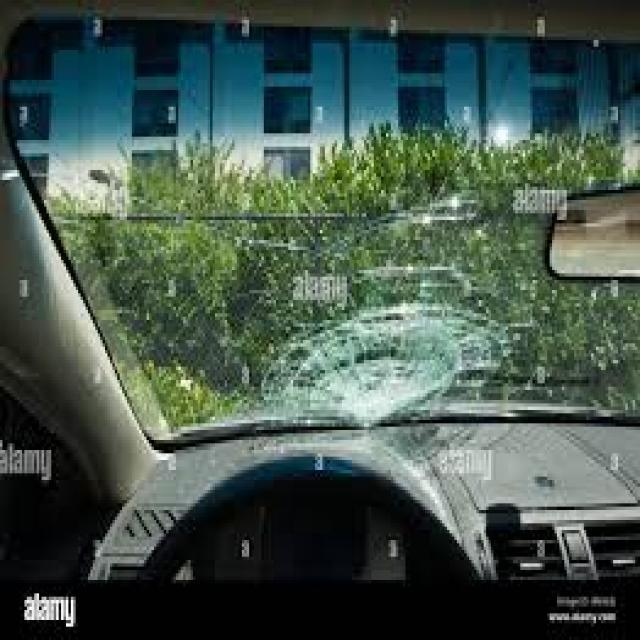damaged-windscreen: (9, 12, 640, 450)
